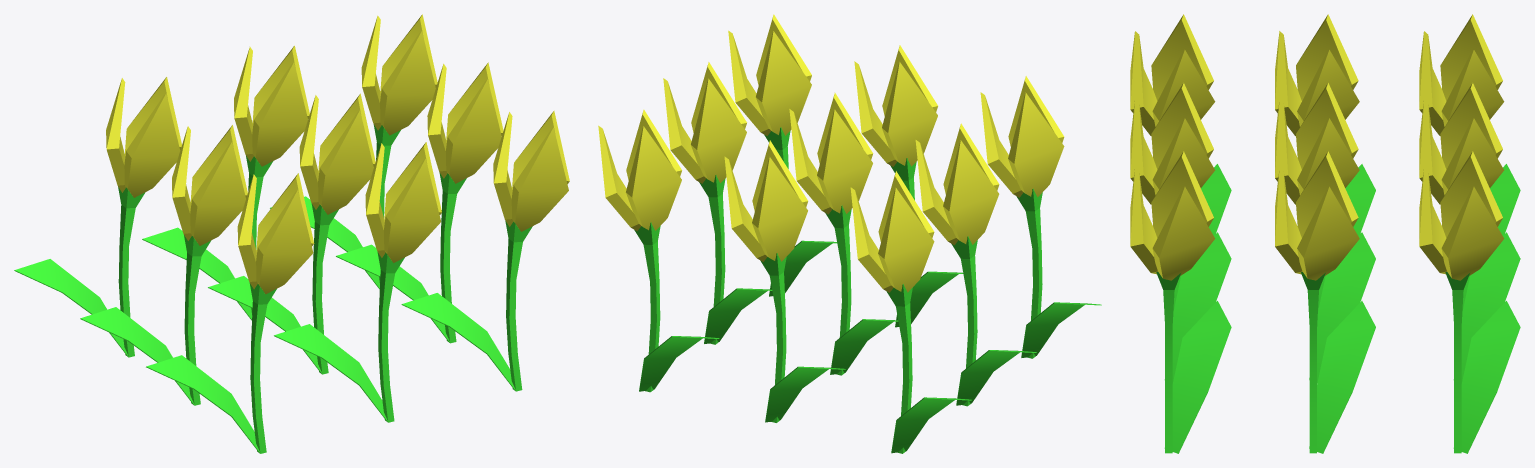
The model's file is tulip2group.fbx.
The picture shows the model from 3 angles, left to right: view 1: azimuth 30°, elevation 25°; view 2: azimuth 150°, elevation 25°; view 3: azimuth 270°, elevation 25°; orthographic projection. The views are drawn at different scales.
Visible parts, largest first — view 1: Box011; view 2: Box011; view 3: Box011.
Part boxes in pixels (x1=…): Box011: x1=14, y1=14, x2=569, y2=453; Box011: x1=598, y1=14, x2=1101, y2=453; Box011: x1=1130, y1=14, x2=1520, y2=453.
Size of the model in its own units: 80.8 by 53.11 by 62.62.
